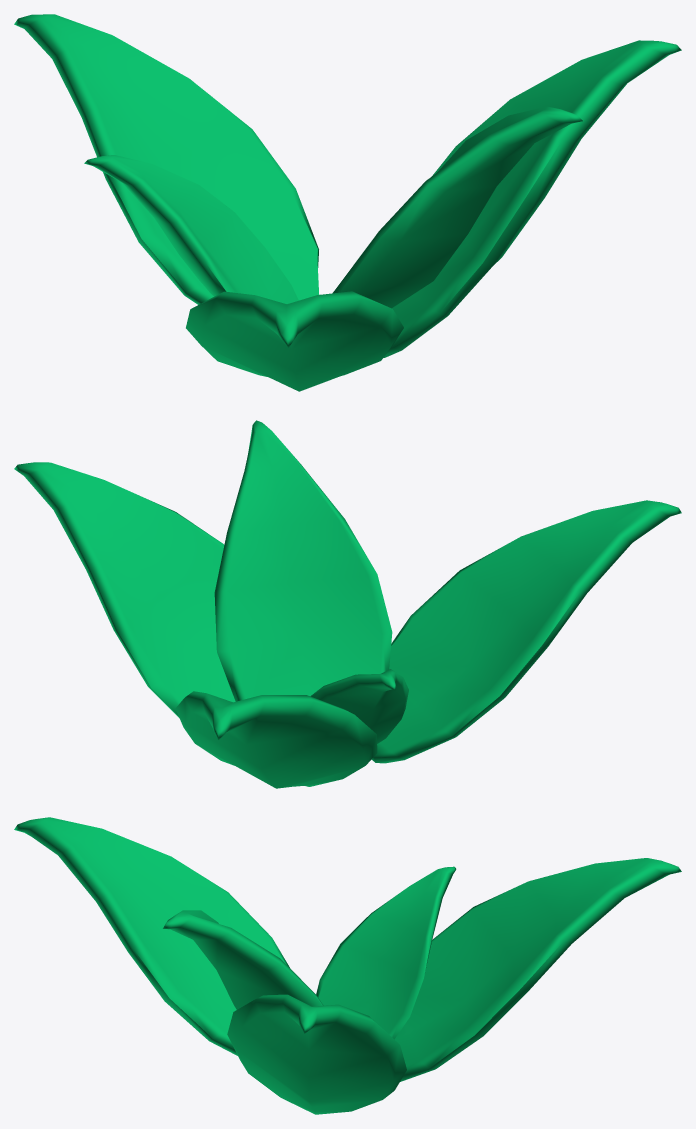
Rendered from Farm_7_Plant_1.glb.
3 renders of one model, top to bottom at view 1: azimuth 30°, elevation 25°; view 2: azimuth 150°, elevation 25°; view 3: azimuth 270°, elevation 25°, orthographic. The views are drawn at different scales.
Parts seen in each view (by area): view 1: Farm_7_Plant_1; view 2: Farm_7_Plant_1; view 3: Farm_7_Plant_1.
Part boxes in pixels (x1=…): Farm_7_Plant_1: x1=14, y1=14, x2=681, y2=391; Farm_7_Plant_1: x1=14, y1=420, x2=681, y2=788; Farm_7_Plant_1: x1=14, y1=817, x2=681, y2=1114.
Bounding box in the file's own units: 0.3896 × 0.1862 × 0.4686.
1 material, 1 textured.
